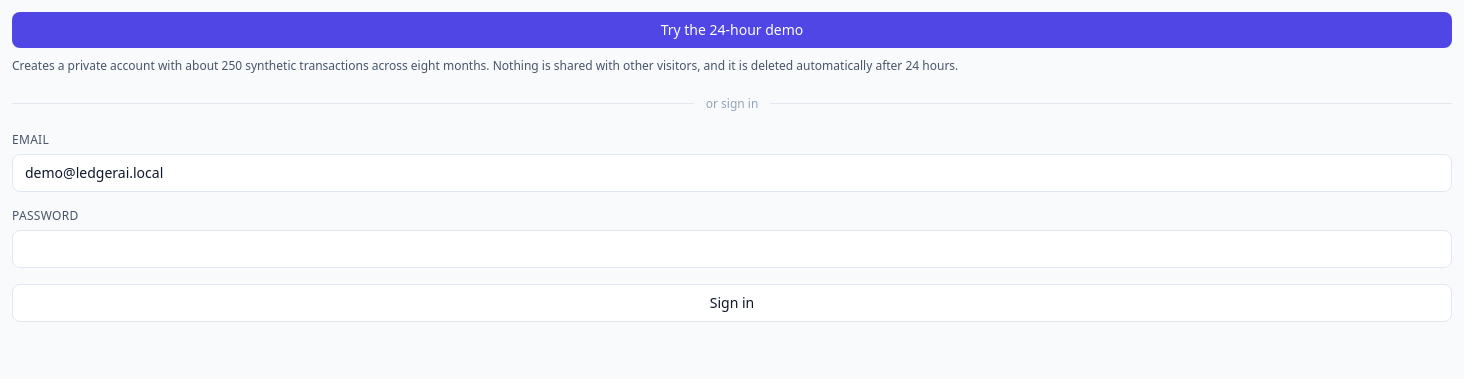
Test: demo entry › explains a throttled failure instead of failing silently
Click the button "Try the 24-hour demo".
click(732, 30)  # box [12,12,1452,48]
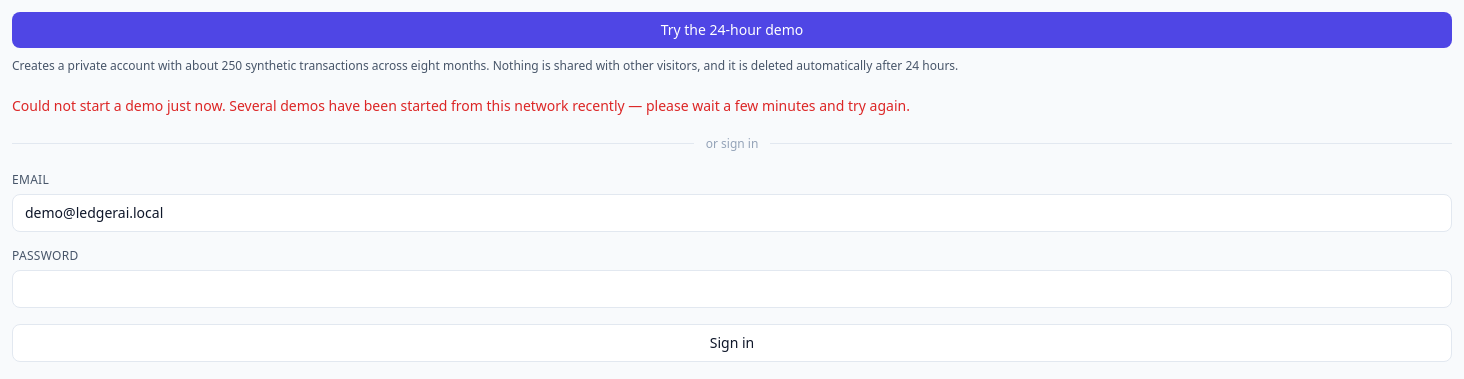
Expected: the message shows "wait a few minutes", [12,96,910,114]
